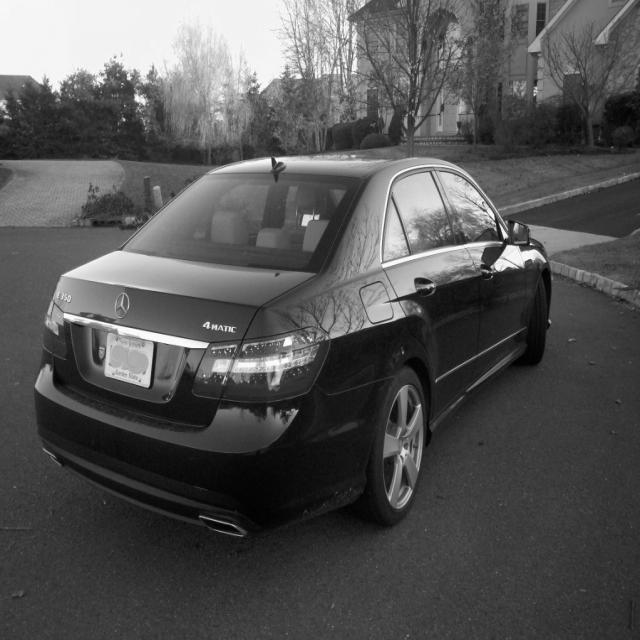car: (34, 154, 552, 538)
